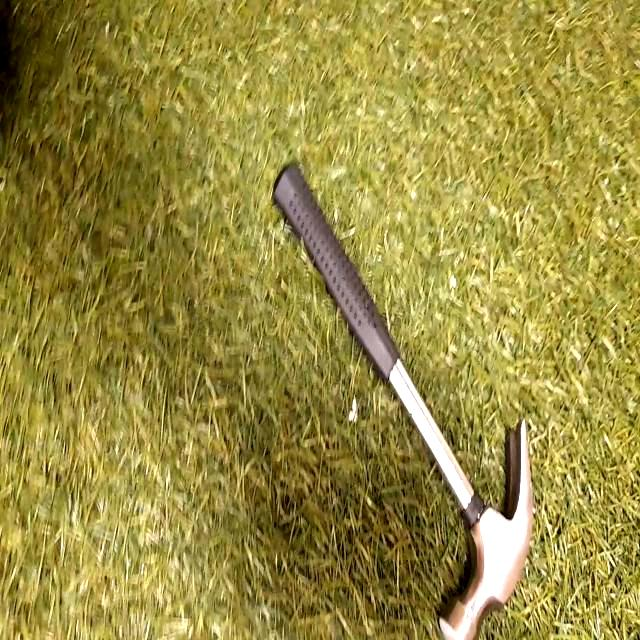hammer: (226, 152, 544, 640)
